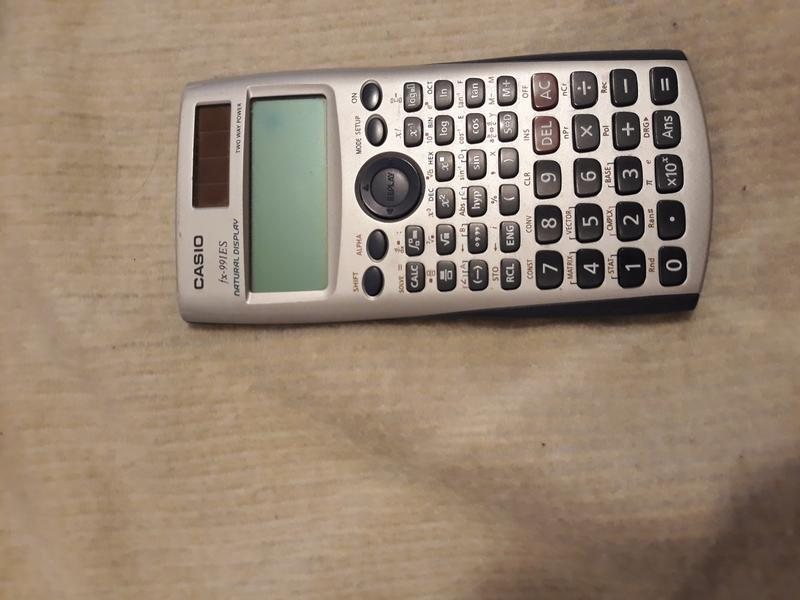CASIO_fx_991ES: (136, 36, 717, 350)
